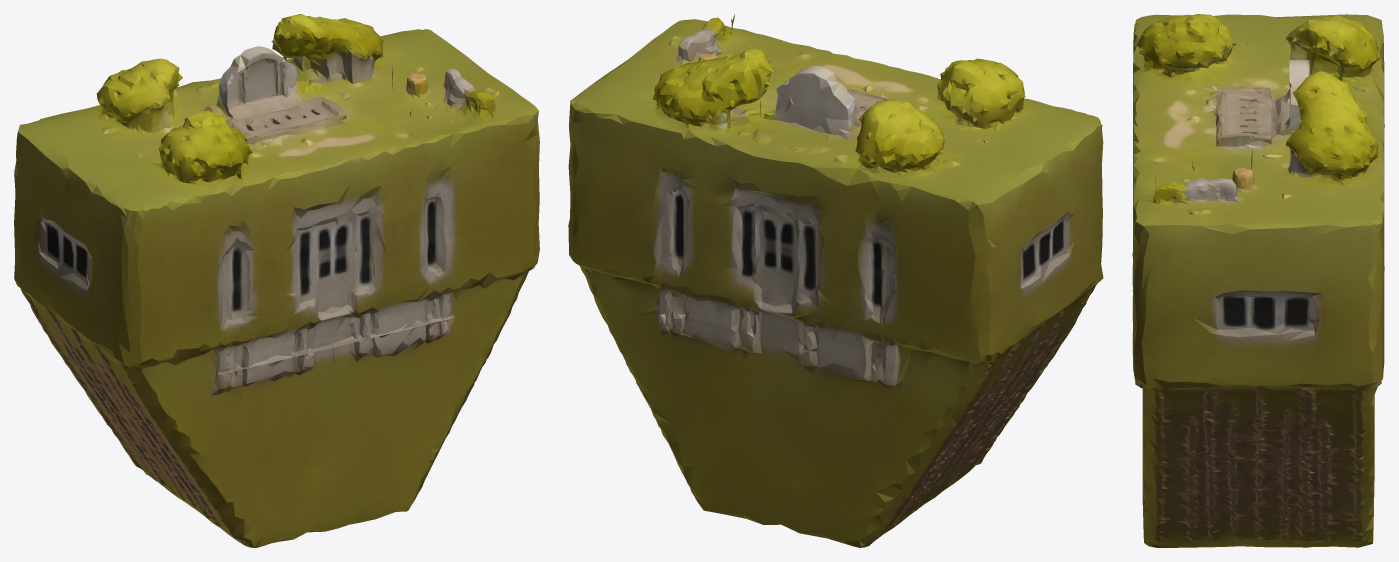
The model's file is undead_farm.glb.
3 views of the same model, side by side, from view 1: azimuth 30°, elevation 25°; view 2: azimuth 150°, elevation 25°; view 3: azimuth 270°, elevation 25° (orthographic). The views are drawn at different scales.
Parts seen in each view (by area): view 1: undead_farm; view 2: undead_farm; view 3: undead_farm.
Boxes of the visible parts, x1=… form: undead_farm: x1=14, y1=14, x2=539, y2=547; undead_farm: x1=568, y1=14, x2=1103, y2=547; undead_farm: x1=1132, y1=14, x2=1384, y2=547.
Bounding box in the file's own units: 1.89 × 1.9 × 0.9459.
Materials: 1 (1 with a texture image).
